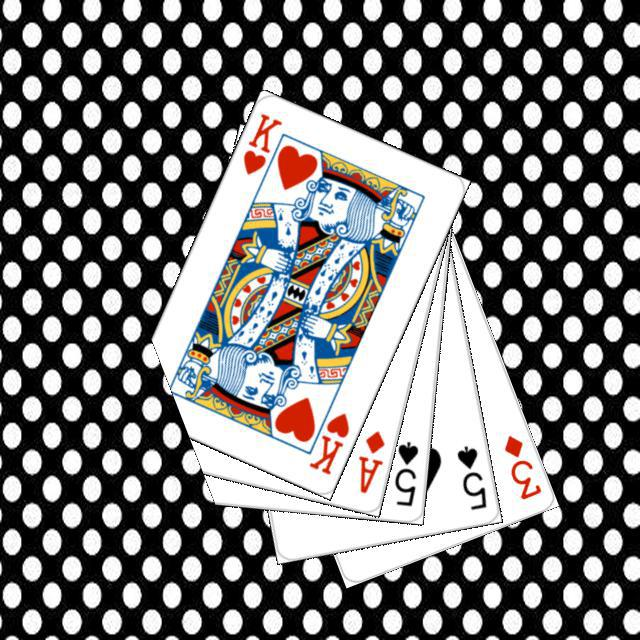3d: (499, 430, 543, 502)
5s: (452, 440, 488, 512), (389, 436, 420, 508)
Ad: (353, 425, 387, 496)
Kh: (300, 395, 351, 477), (238, 108, 284, 177)
